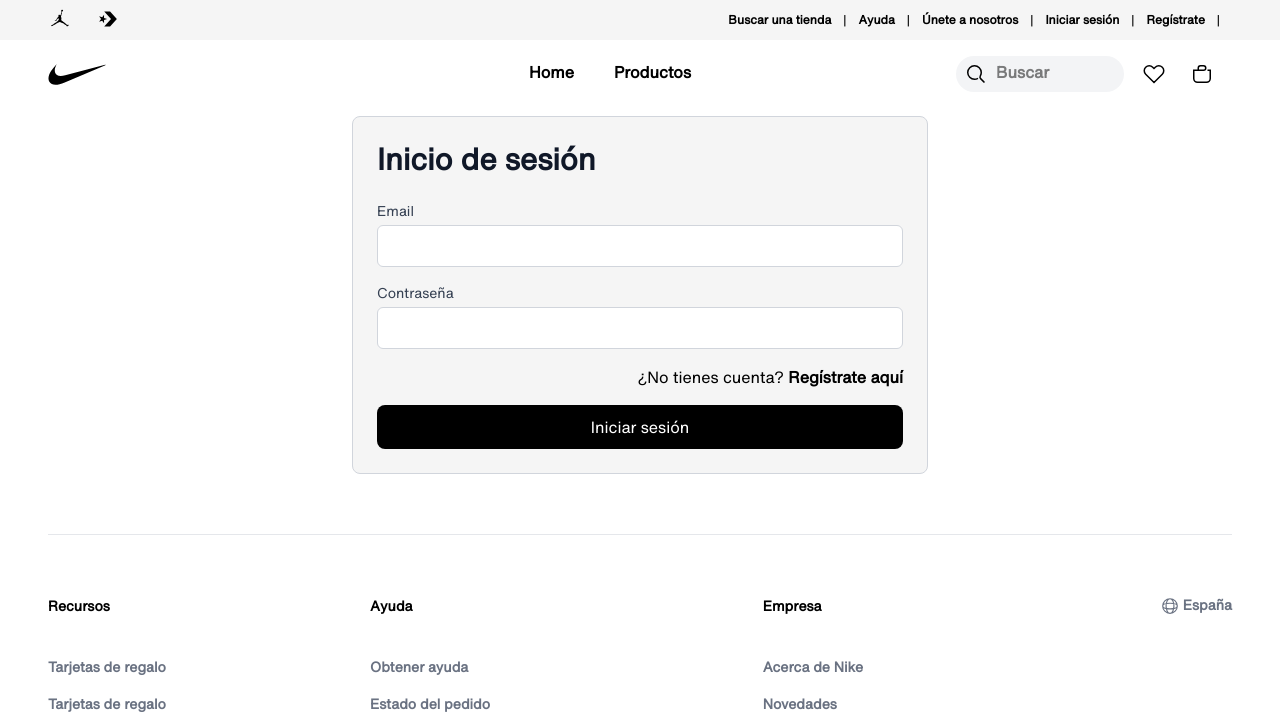
Test: Login de usuario › Muestra error si las credenciales son incorrectas
In the field named "email": (640, 246) 377,225 -> 903,267, type "incorrecto@incorrecto.com"
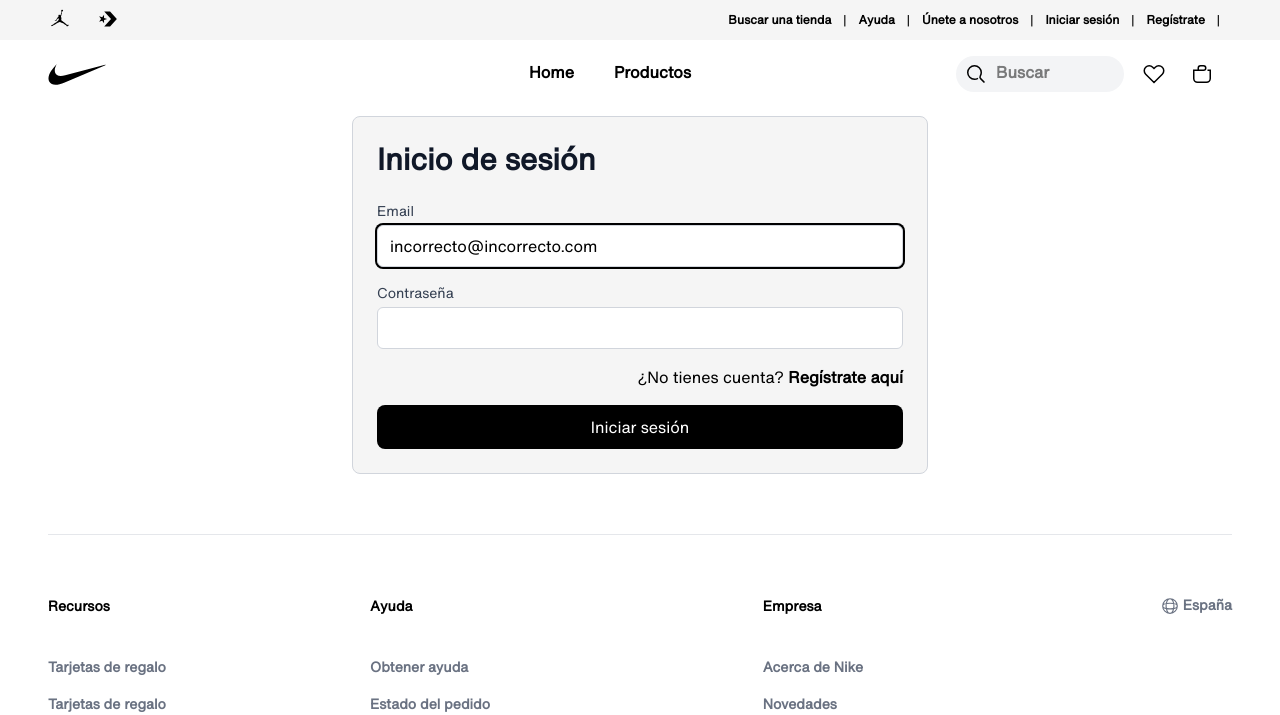
In the password field named "password": (640, 328) 377,307 -> 903,349, type "Incorrecta"
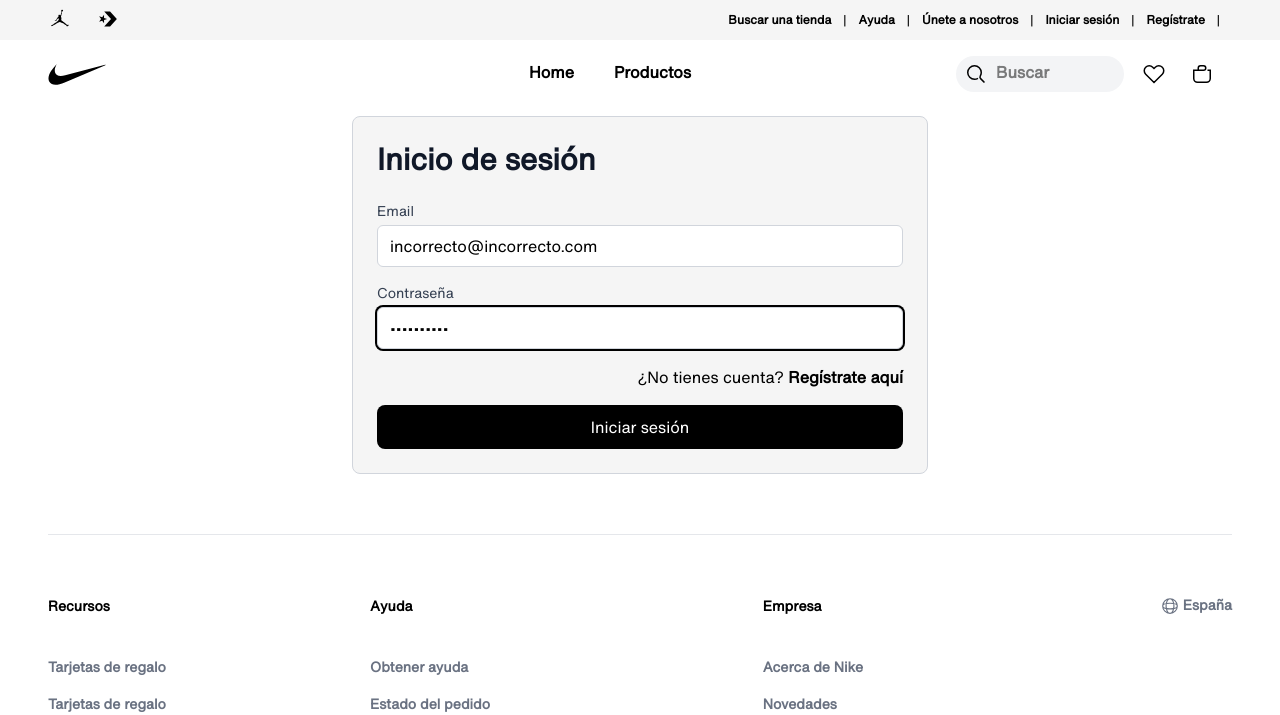
Click the submit button: (640, 427) 377,405 -> 903,449
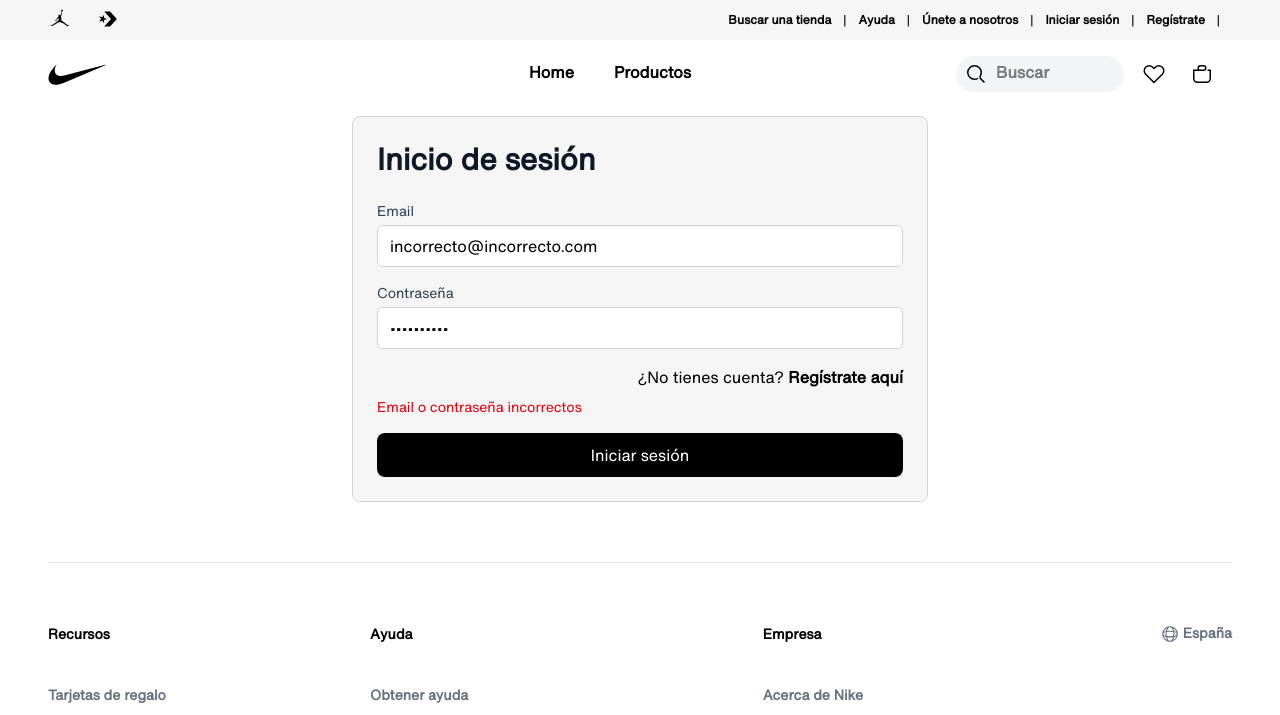
expect the text "Email o contraseña incorrectos" is shown: met, box 377,396 -> 582,417
